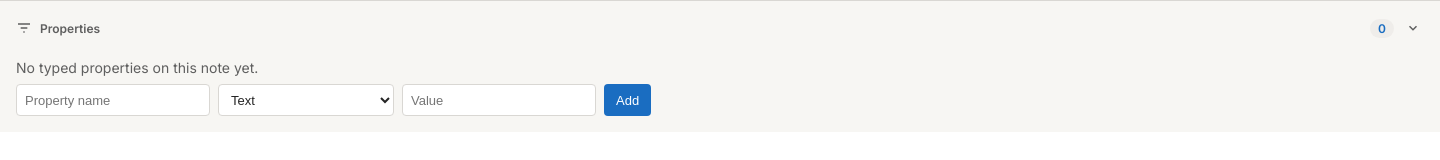
Test: PropertiesPanel name autocomplete › adopts a known property's existing type when its name is selected
In the field with test id "property-name-input": (113, 100) [16, 84, 210, 116], type "priority"
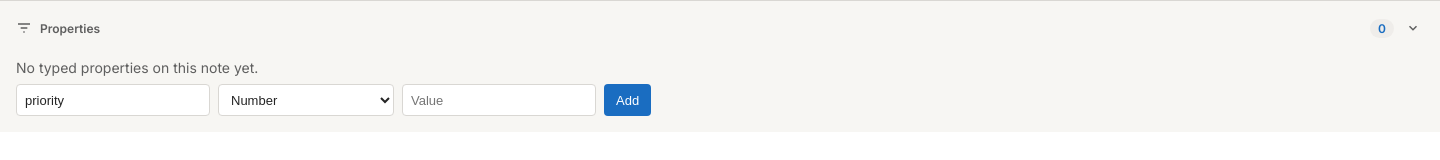
Expected: the dropdown with test id "property-type-select" shows "Number", [218, 84, 394, 116]
